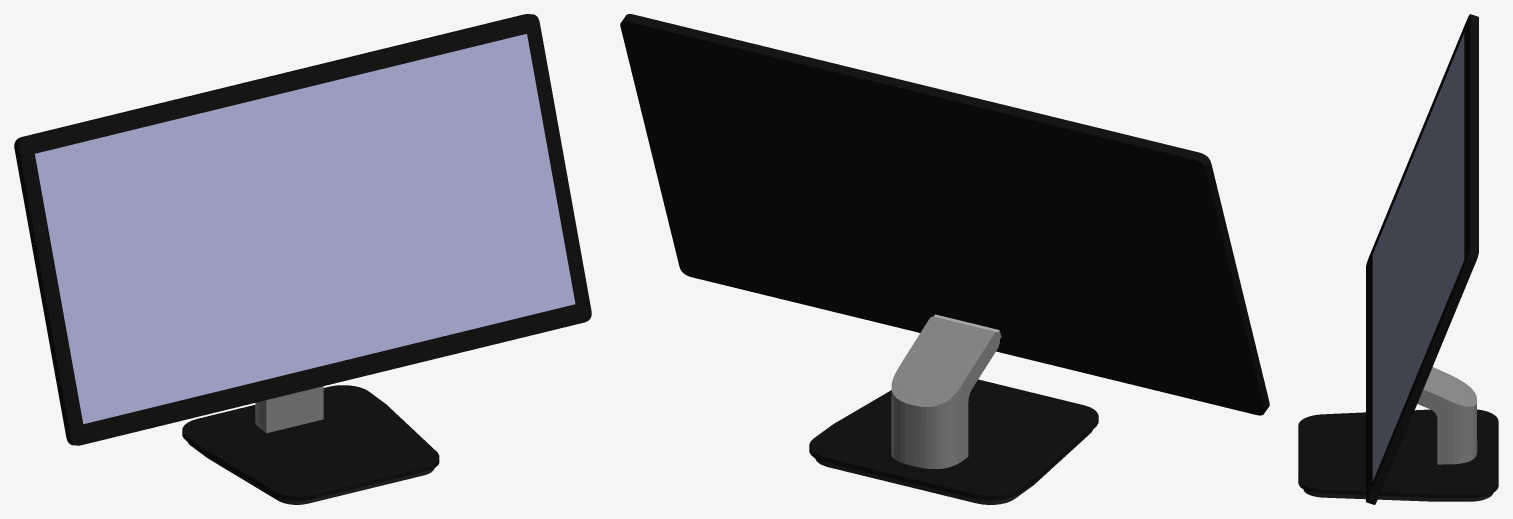
Rendered from monitor.fbx.
3 renders of one model, left to right at view 1: azimuth 30°, elevation 25°; view 2: azimuth 150°, elevation 25°; view 3: azimuth 270°, elevation 25°, orthographic. The views are drawn at different scales.
Visible parts, largest first — view 1: Rectangle0; view 2: Rectangle0; view 3: Rectangle0.
Part boxes in pixels (x1,y1,x2,y2): Rectangle0: [14, 14, 591, 504]; Rectangle0: [620, 14, 1269, 504]; Rectangle0: [1298, 14, 1498, 504].
Size of the model in its own units: 88.14 by 56.46 by 31.
